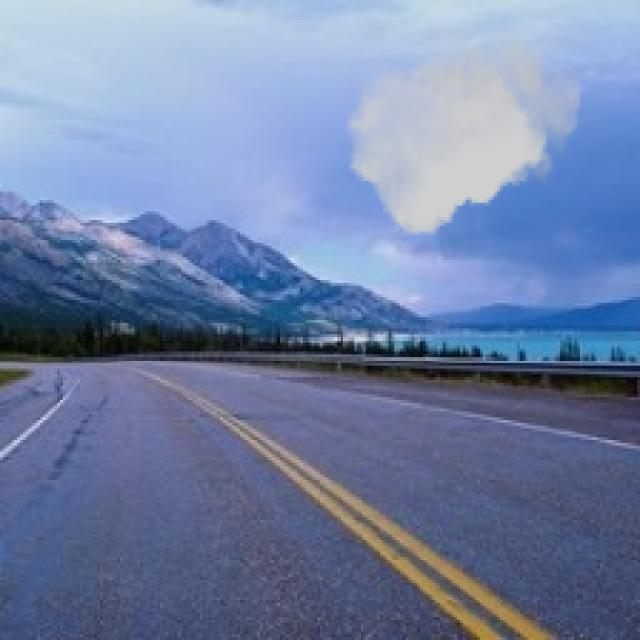Smoke: (346, 28, 580, 235)
